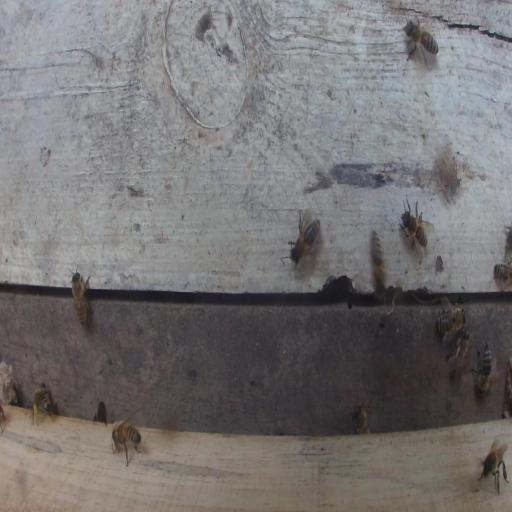bee: (399, 196, 431, 260), (288, 209, 322, 265), (403, 18, 439, 70), (478, 437, 508, 495), (110, 420, 142, 466), (70, 265, 90, 327), (445, 329, 470, 378), (471, 340, 492, 396), (370, 229, 386, 293), (31, 384, 54, 426), (436, 305, 467, 335), (493, 238, 512, 286), (351, 402, 371, 434), (492, 262, 512, 289), (95, 400, 107, 426)
